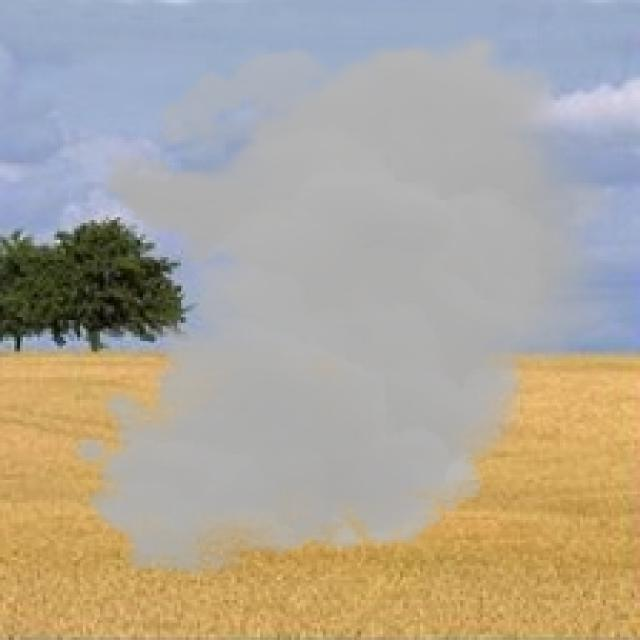smoke: (66, 29, 631, 580)
